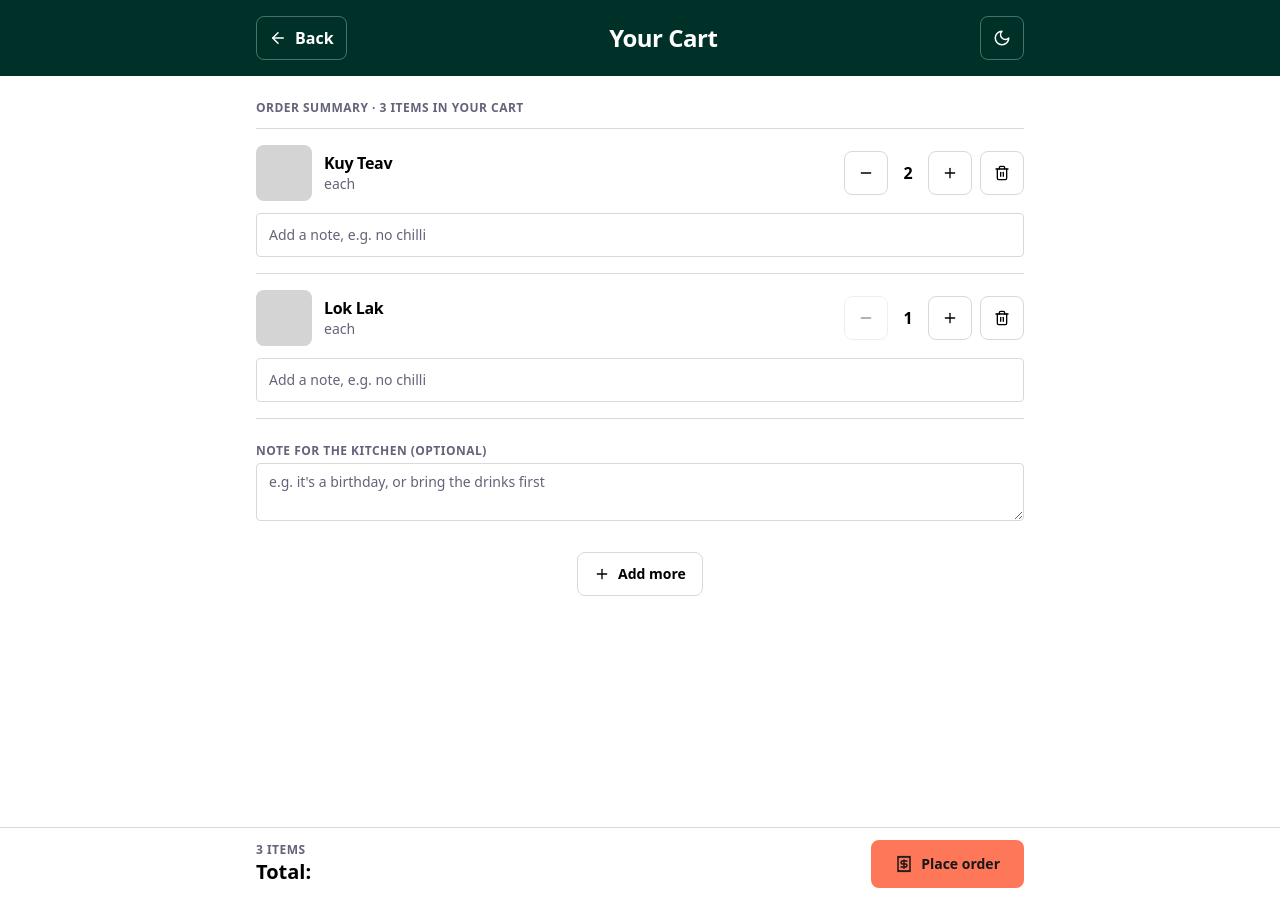
order errors › the service is down: shows the message and Try again, which sends the same cart again
Expected: the heading "Kuy Teav" is shown, top-left (324, 152), bottom-right (392, 174)
Click the button "Place order": [948, 864] box top-left (871, 840), bottom-right (1024, 888)
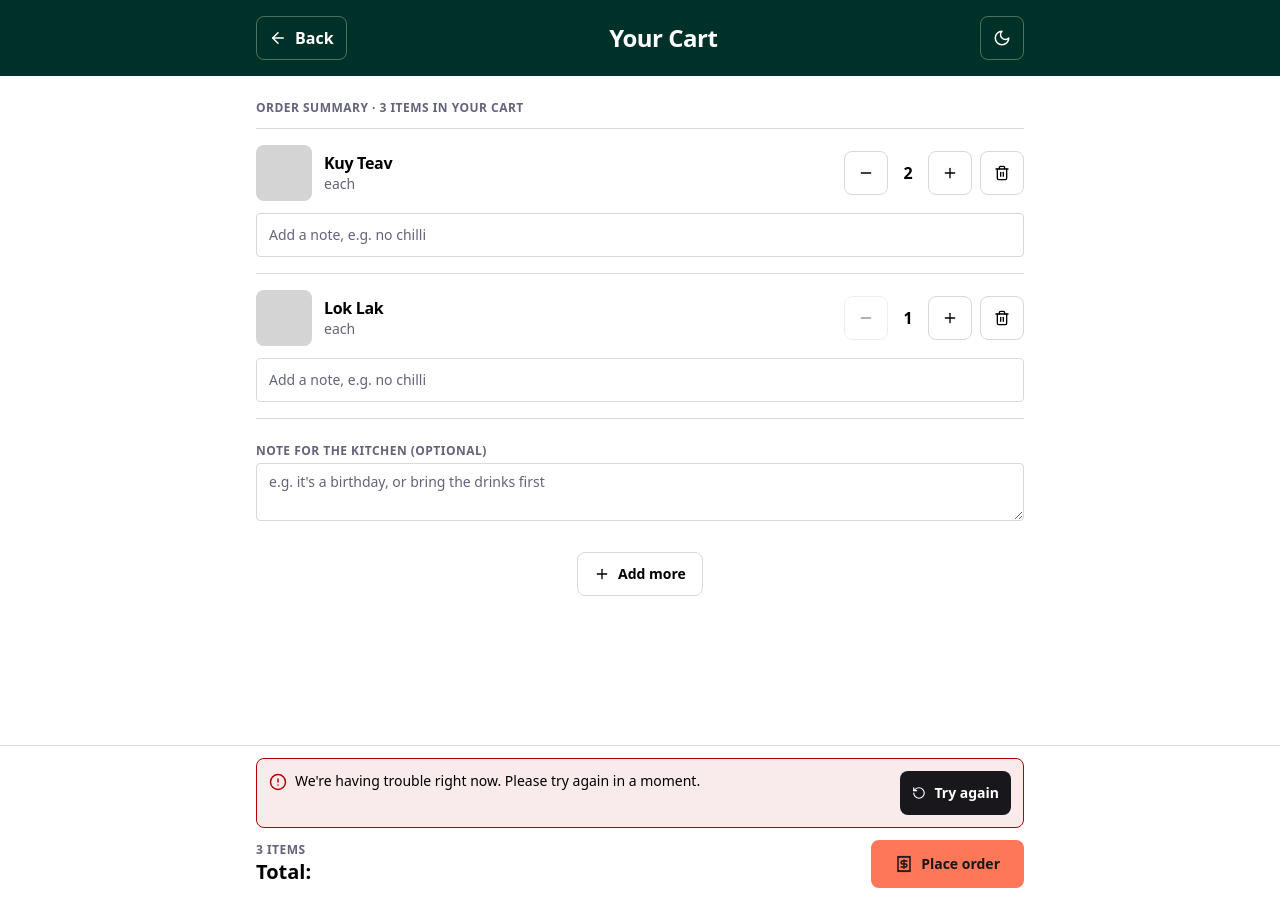
Result: the message shows "We're having trouble right now. Please try again in a moment." at top-left (295, 771), bottom-right (700, 790)
Click the button "Try again": [956, 793] box top-left (900, 771), bottom-right (1011, 815)
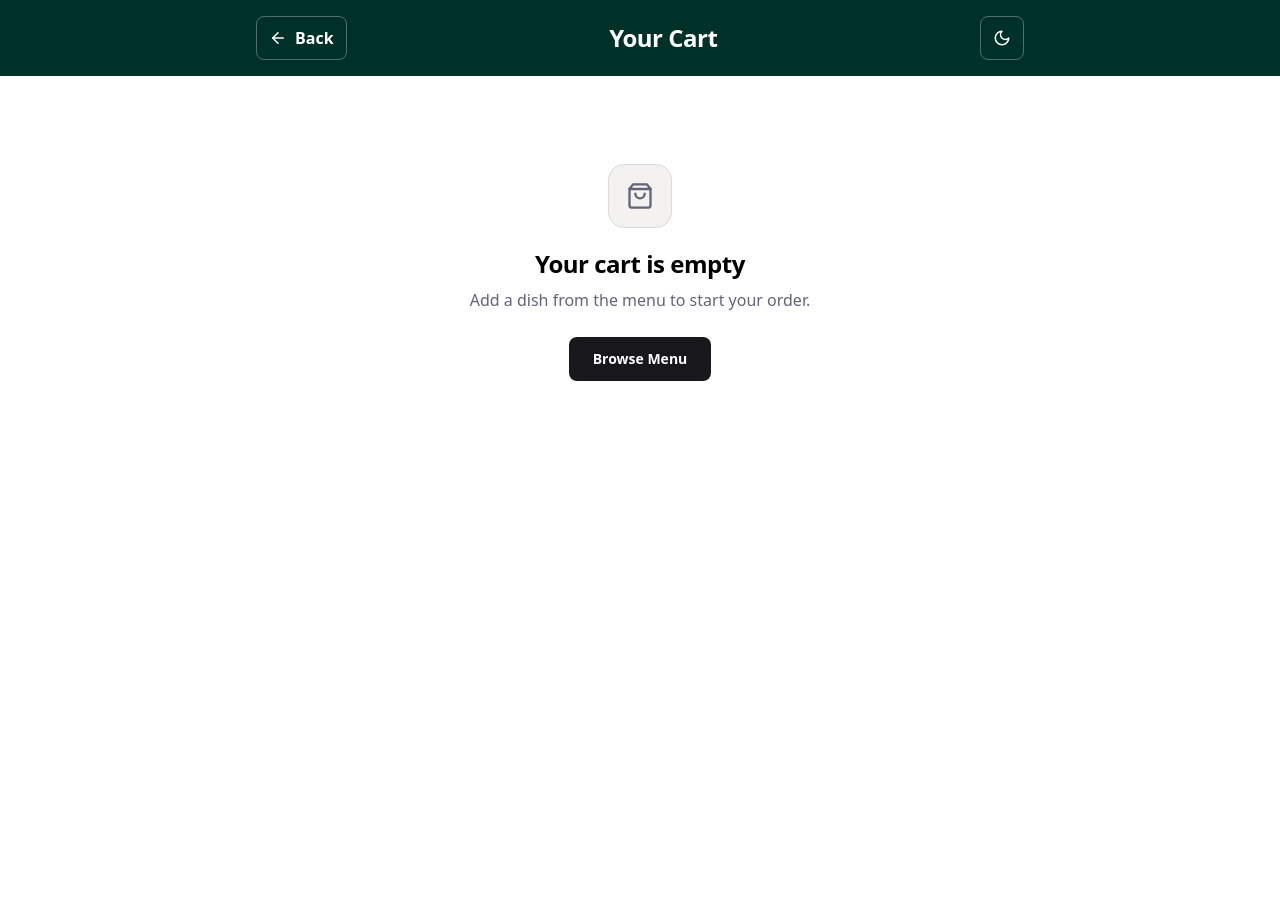
Result: the message "We're having trouble right now. Please try again in a moment. Try again" is gone
